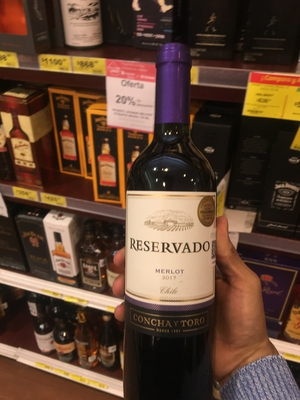reservado merlot: (110, 45, 232, 377)
